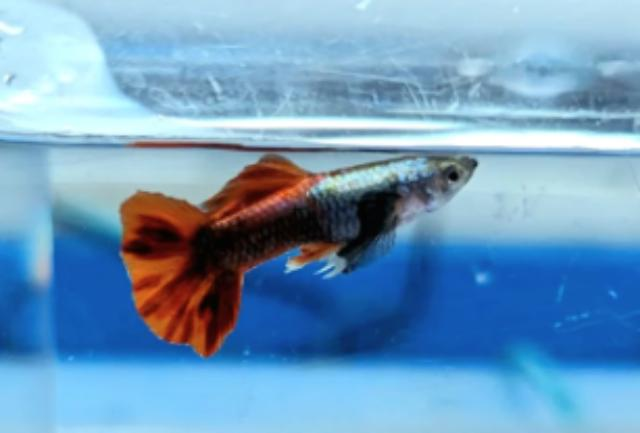Mulut: (444, 144, 496, 188)
Sirip Anal: (272, 228, 344, 280)
Sirip Ekor: (104, 184, 254, 376)
Sirip Perut: (314, 236, 368, 296)
Sirip Punggung: (195, 144, 323, 231)
